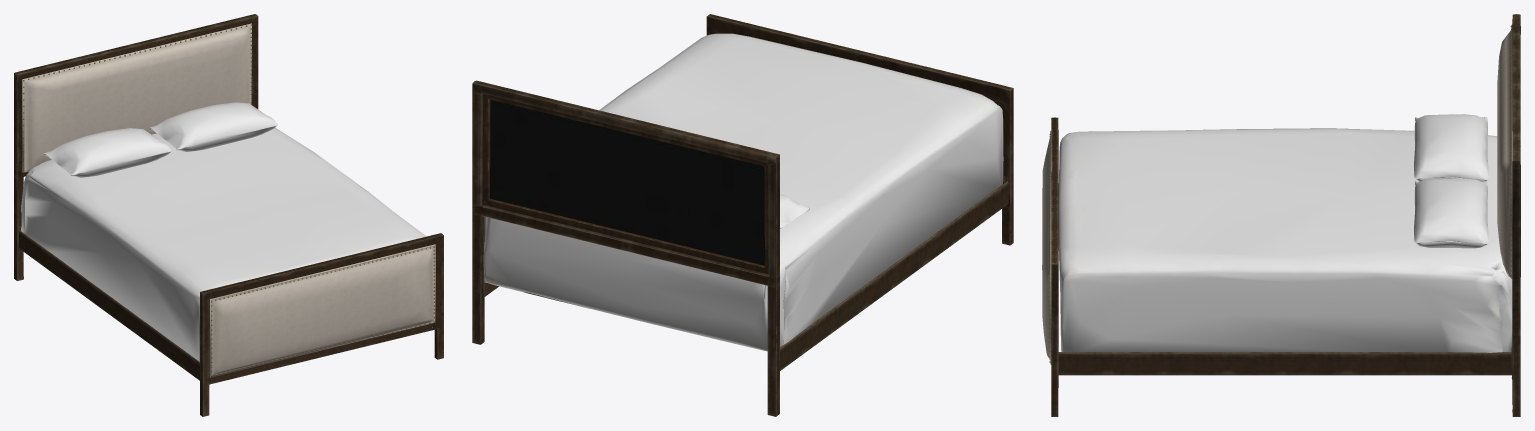
The picture shows the model from 3 angles, left to right: view 1: azimuth 30°, elevation 25°; view 2: azimuth 150°, elevation 25°; view 3: azimuth 270°, elevation 25°; orthographic projection. The views are drawn at different scales.
Parts seen in each view (by area): view 1: visual_RootNode; view 2: visual_RootNode; view 3: visual_RootNode.
Boxes of the visible parts, <box> form: visual_RootNode: <box>14,14,443,416</box>; visual_RootNode: <box>472,14,1013,416</box>; visual_RootNode: <box>1042,14,1520,416</box>.
Bounding box in the file's own units: 1.61 × 2.22 × 1.31.
1 material, 1 textured.
